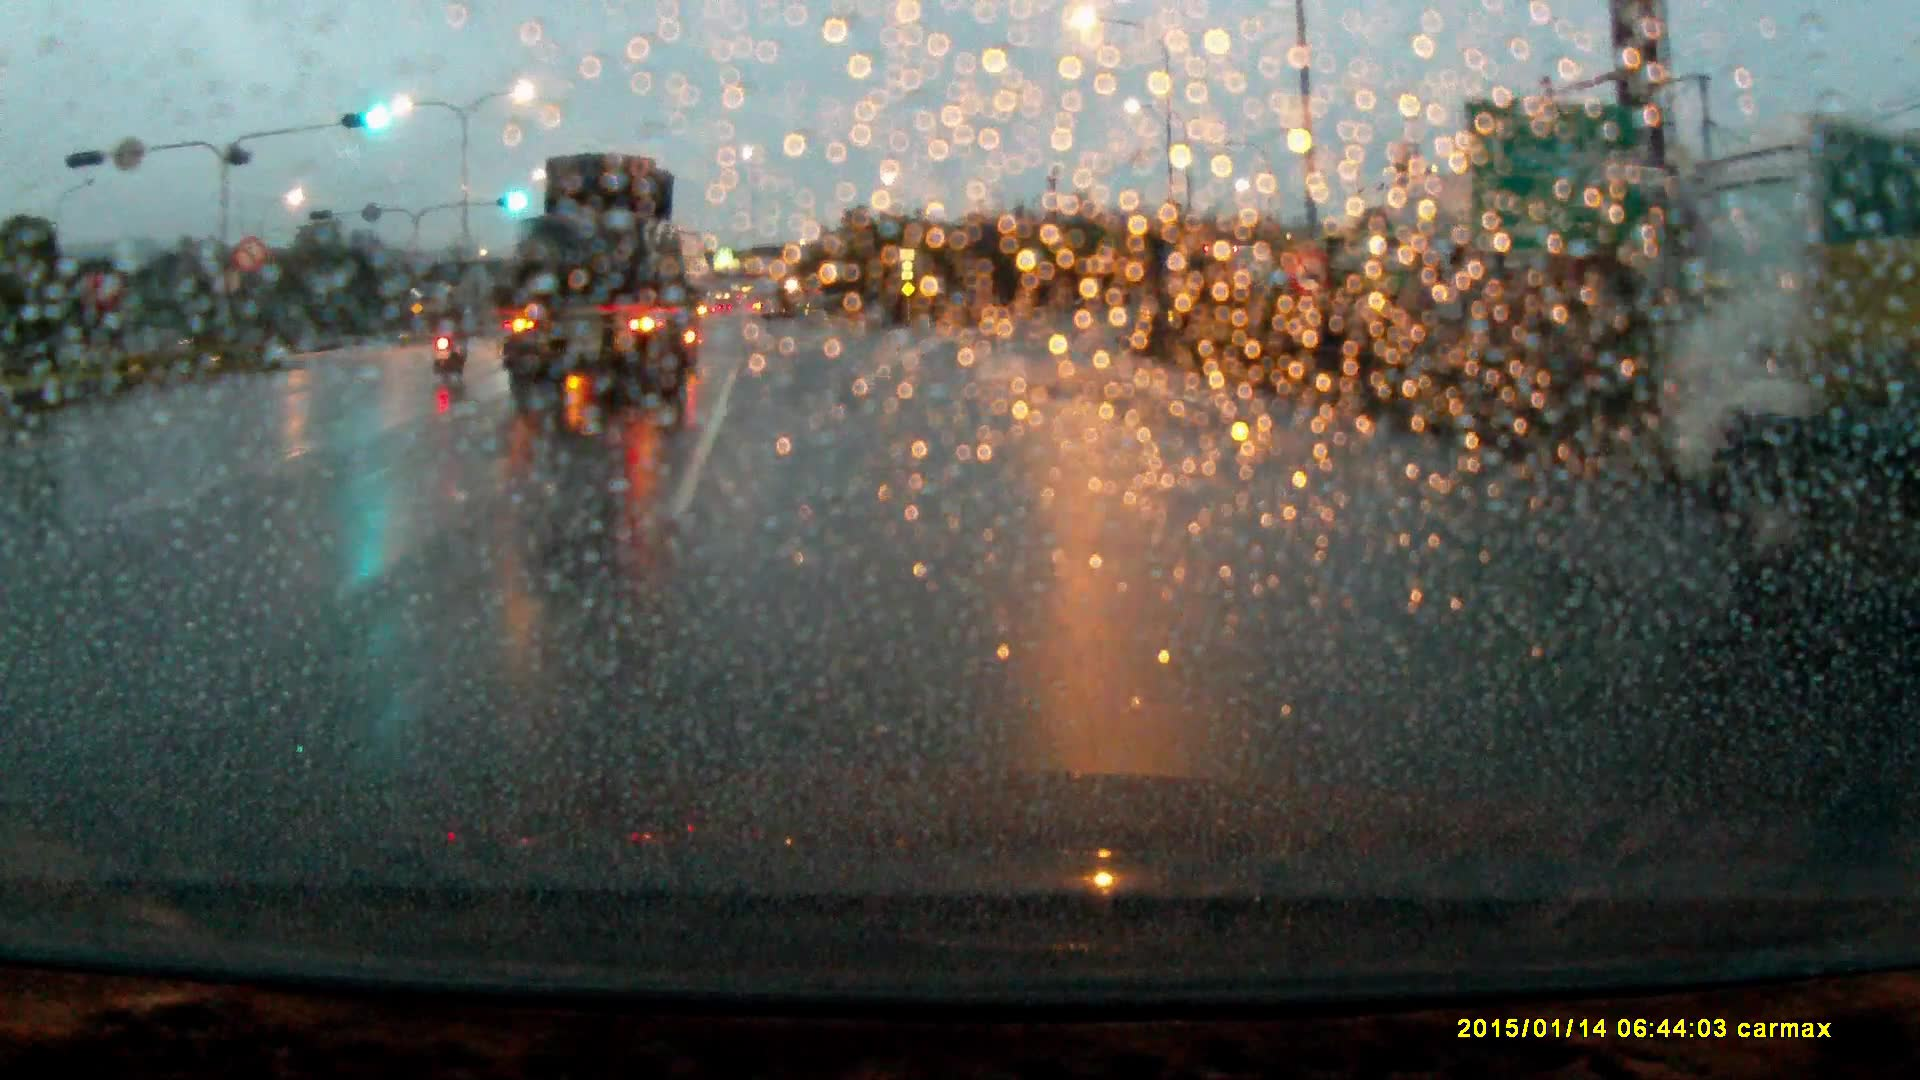rider: (418, 282, 470, 393)
vehicle: (1669, 129, 1920, 574), (498, 148, 703, 409)
